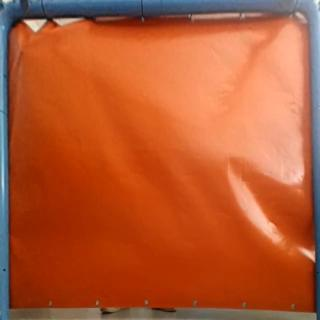Hit-hRxx: (16, 44, 28, 57)
